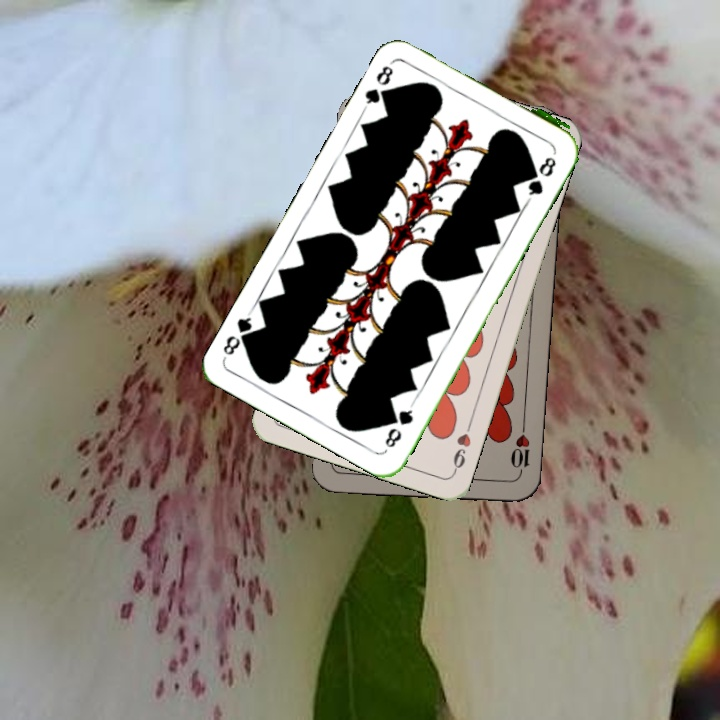G8: (360, 55, 400, 108), (381, 399, 417, 450)
H10: (506, 420, 533, 479)
H9: (449, 418, 475, 476)
